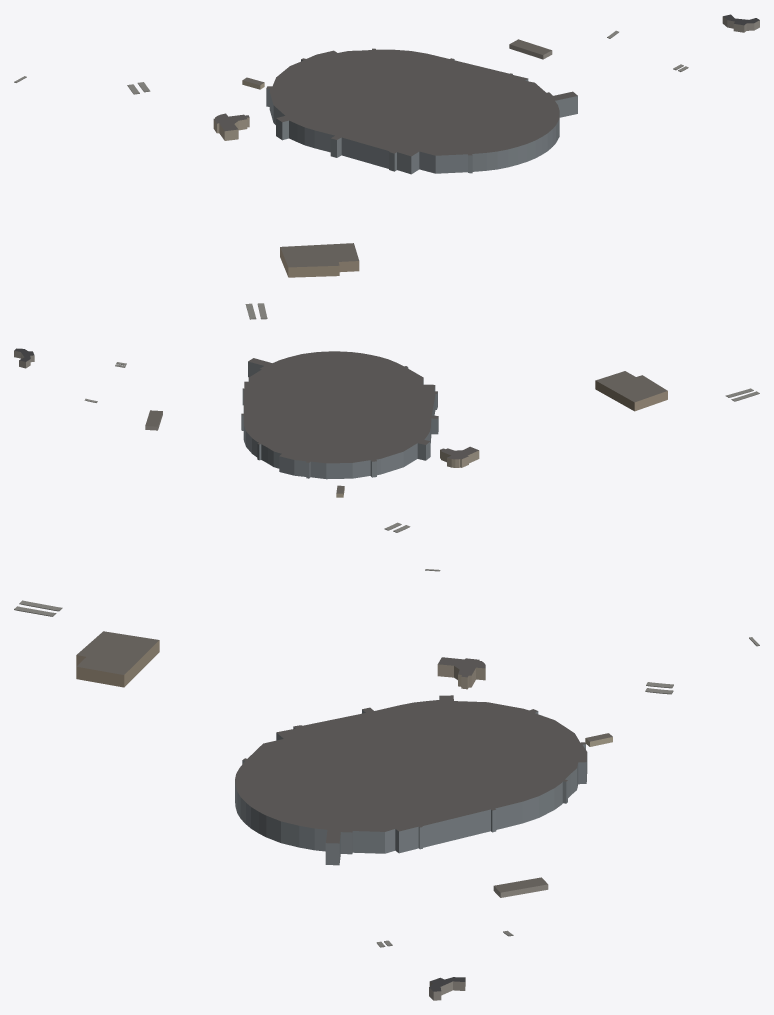
File: scenery.glb
The picture shows the model from 3 angles, top to bottom: view 1: azimuth 30°, elevation 25°; view 2: azimuth 150°, elevation 25°; view 3: azimuth 270°, elevation 25°; orthographic projection. The views are drawn at different scales.
Parts seen in each view (by area): view 1: chunk_15_14, chunk_14_15, chunk_14_14, chunk_16_14; view 2: chunk_15_14, chunk_14_15, chunk_14_14, chunk_16_14; view 3: chunk_15_14, chunk_14_15, chunk_14_14, chunk_16_14.
Part boxes in pixels (x1,y1,x2,y2): chunk_15_14: (266,39,577,174); chunk_14_15: (280,243,359,277); chunk_14_14: (127,77,264,140); chunk_16_14: (607,14,759,71); chunk_15_14: (145,351,438,479); chunk_14_15: (595,371,667,411); chunk_14_14: (336,446,479,532); chunk_16_14: (14,348,126,402); chunk_15_14: (235,695,587,897); chunk_14_15: (76,631,159,687); chunk_14_14: (437,657,673,746); chunk_16_14: (376,930,513,1000).
Bounding box in the file's own units: 1204 × 45.57 × 943.
